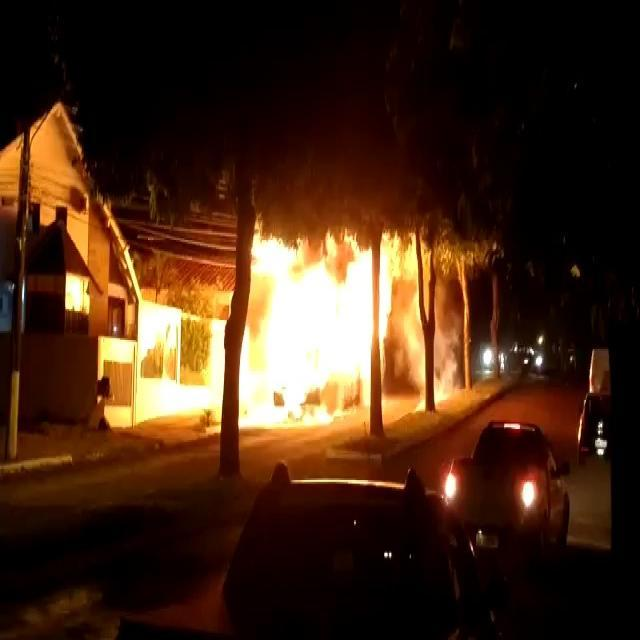Fire: (234, 226, 388, 432)
Smoke: (436, 320, 460, 400)
